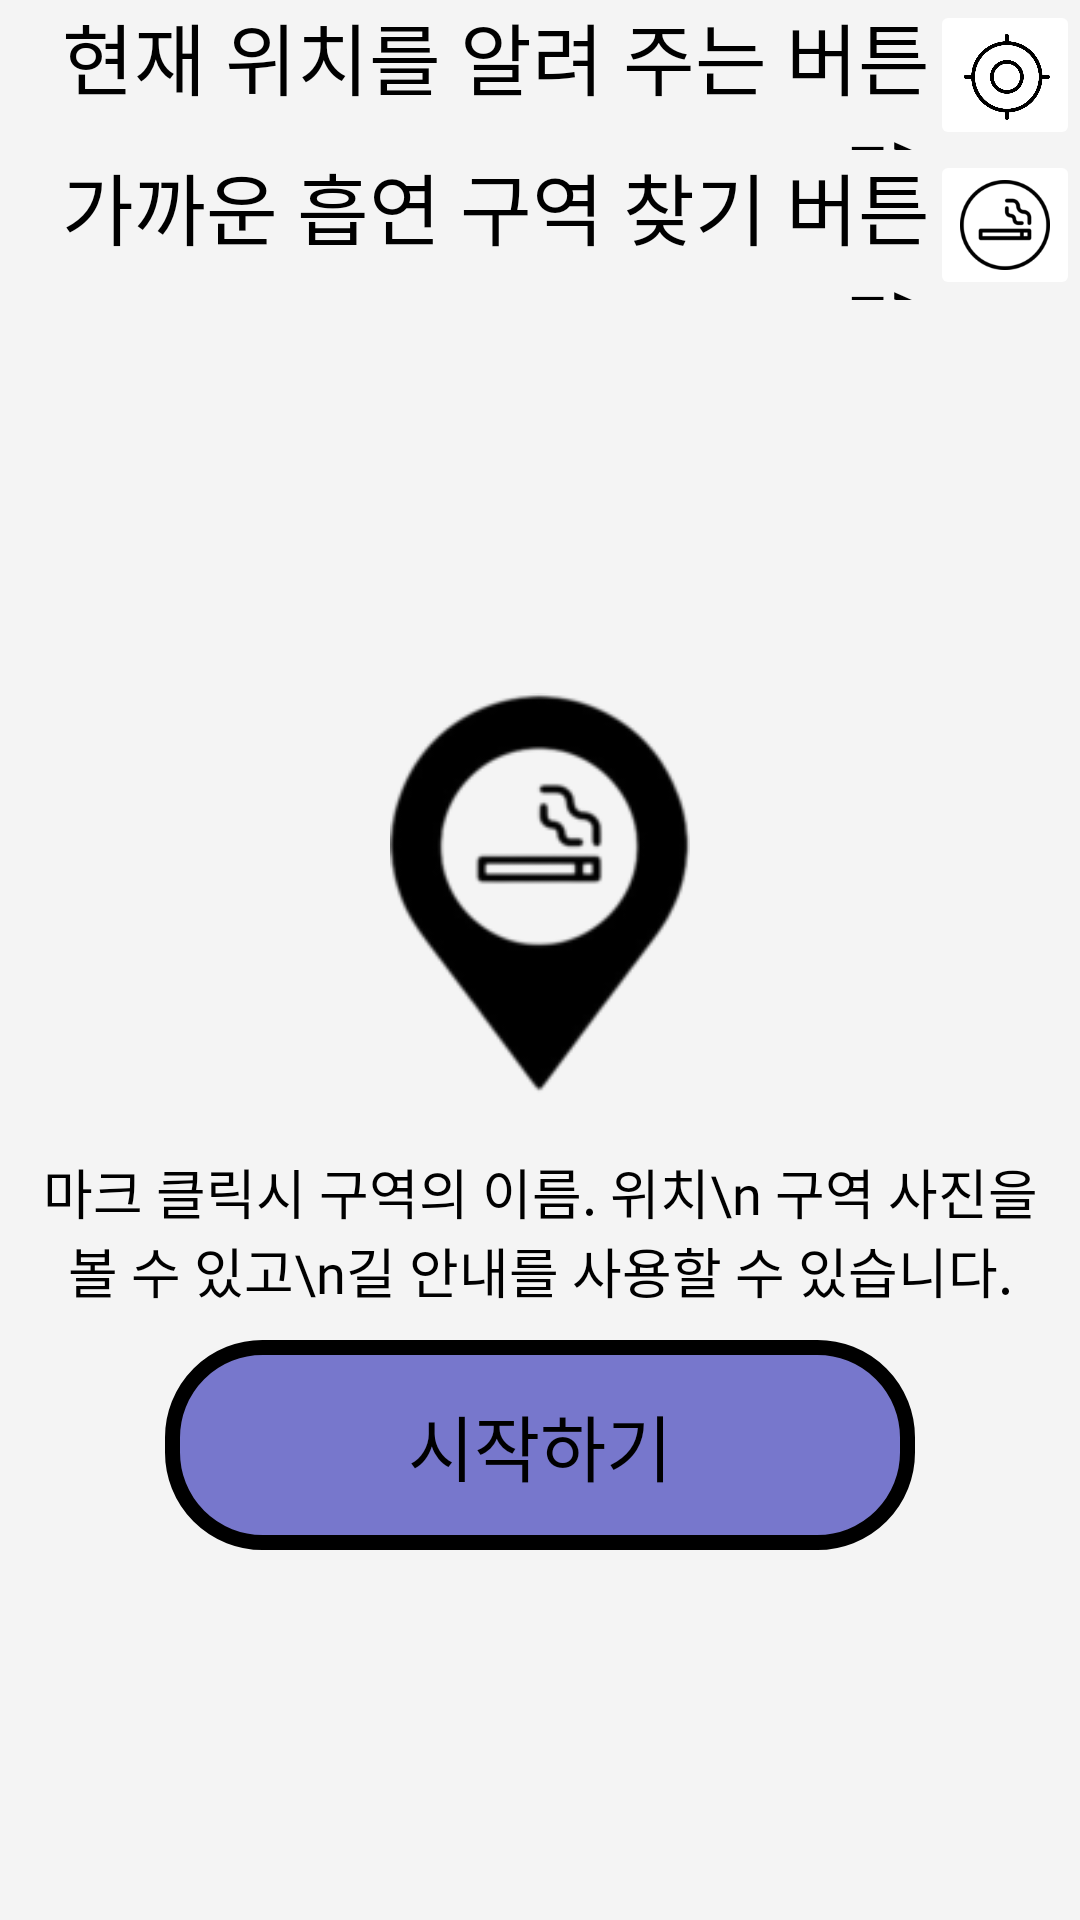

Icons on this 1080px x 1920px Android screen, each with the point to tap as point (x, y):
mylocation: point (1005, 75)
smoking zone search: point (1005, 225)
